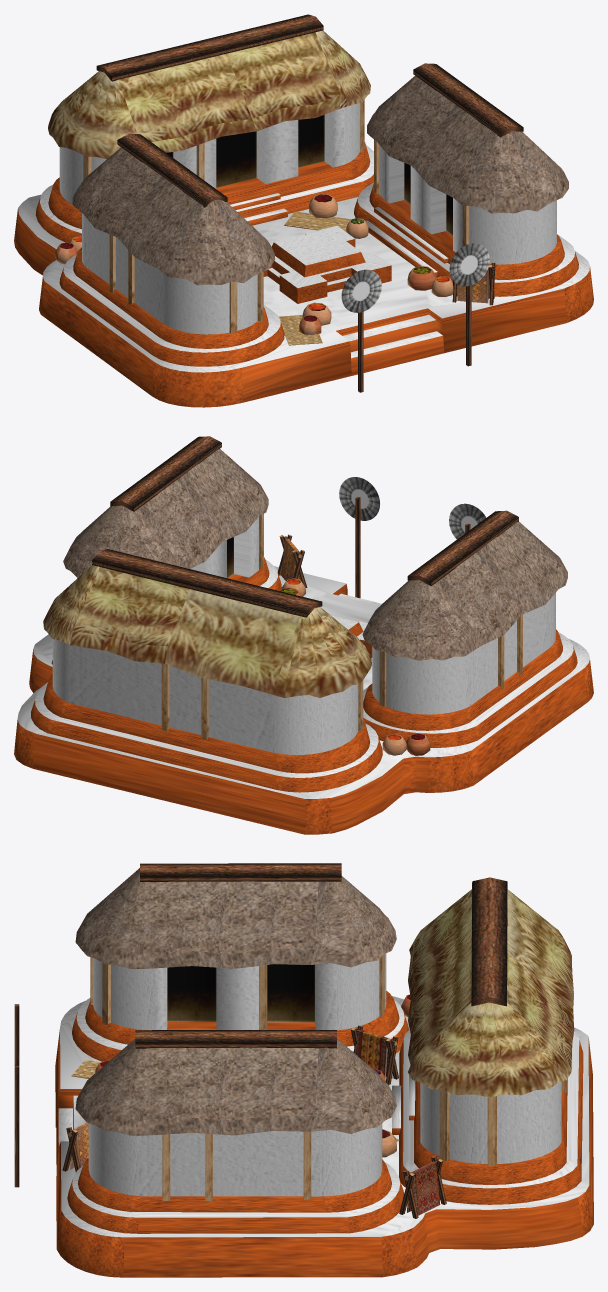
Rendered from cc_menor_2.dae.
3 views of the same model, one above another, from view 1: azimuth 30°, elevation 25°; view 2: azimuth 150°, elevation 25°; view 3: azimuth 270°, elevation 25° (orthographic). The views are drawn at different scales.
Visible parts, largest first — view 1: cc_nm_2; view 2: cc_nm_2; view 3: cc_nm_2.
Part boxes in pixels (left/top/right/bottom): cc_nm_2: left=14, top=14, right=593, bottom=407; cc_nm_2: left=14, top=436, right=593, bottom=834; cc_nm_2: left=14, top=863, right=593, bottom=1277.
Size of the model in its own units: 25.05 by 24.88 by 10.31.
